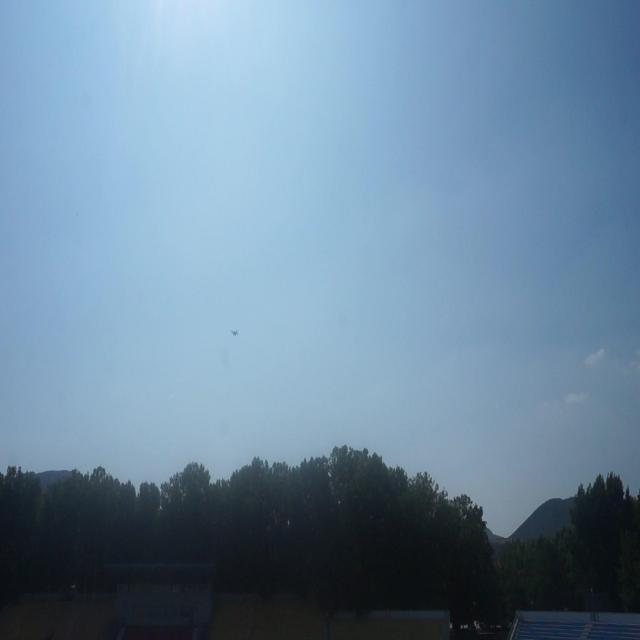UAV: (231, 330, 239, 335)
